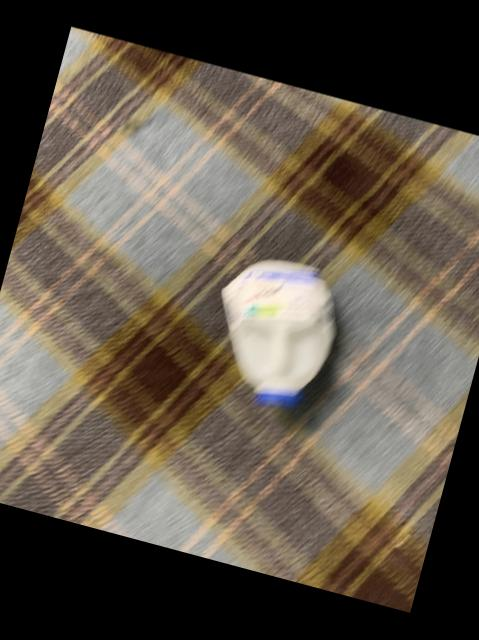plastic: (222, 260, 336, 407)
